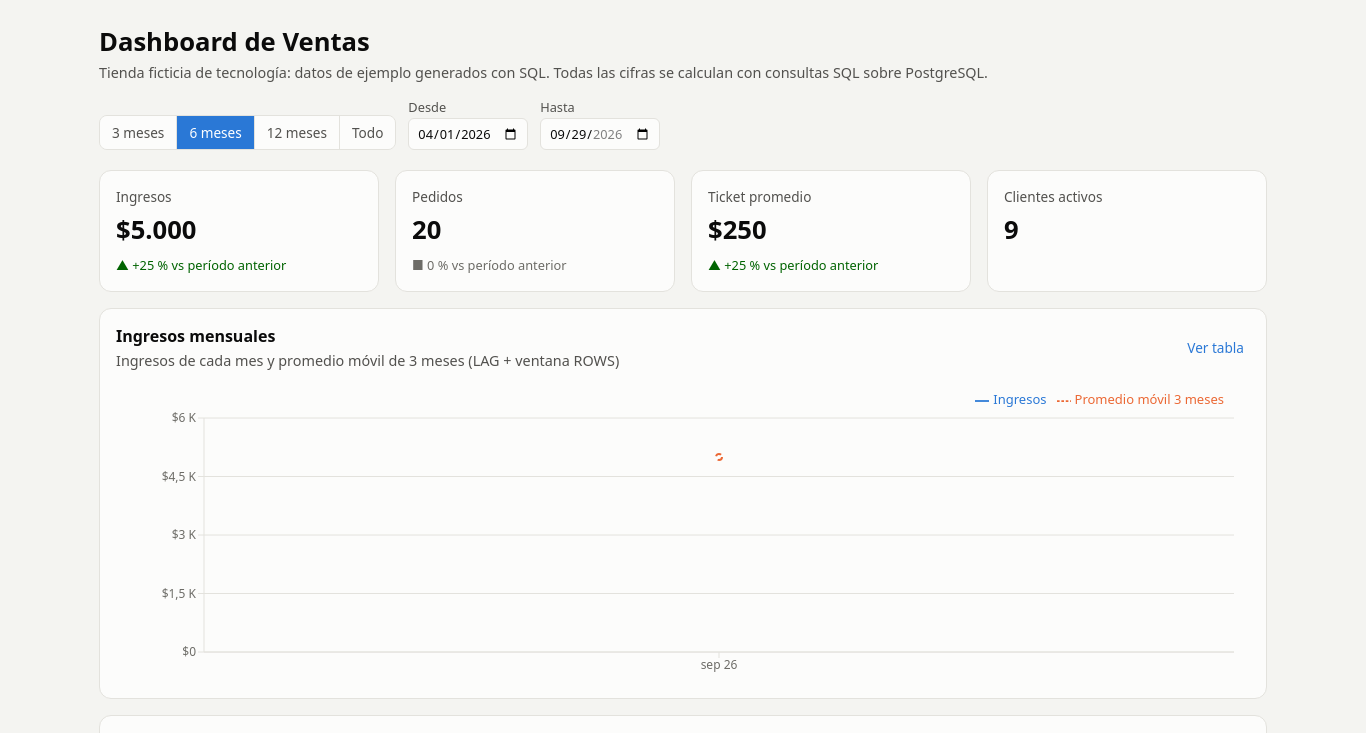
Test: App › alterna entre gráfico y tabla
Expected: the heading "Clientes activos" is shown, [1004, 187, 1102, 206]
Click the button "Ver tabla" in the row of "Ingresos mensuales" at (1216, 348), box [1181, 325, 1250, 370]
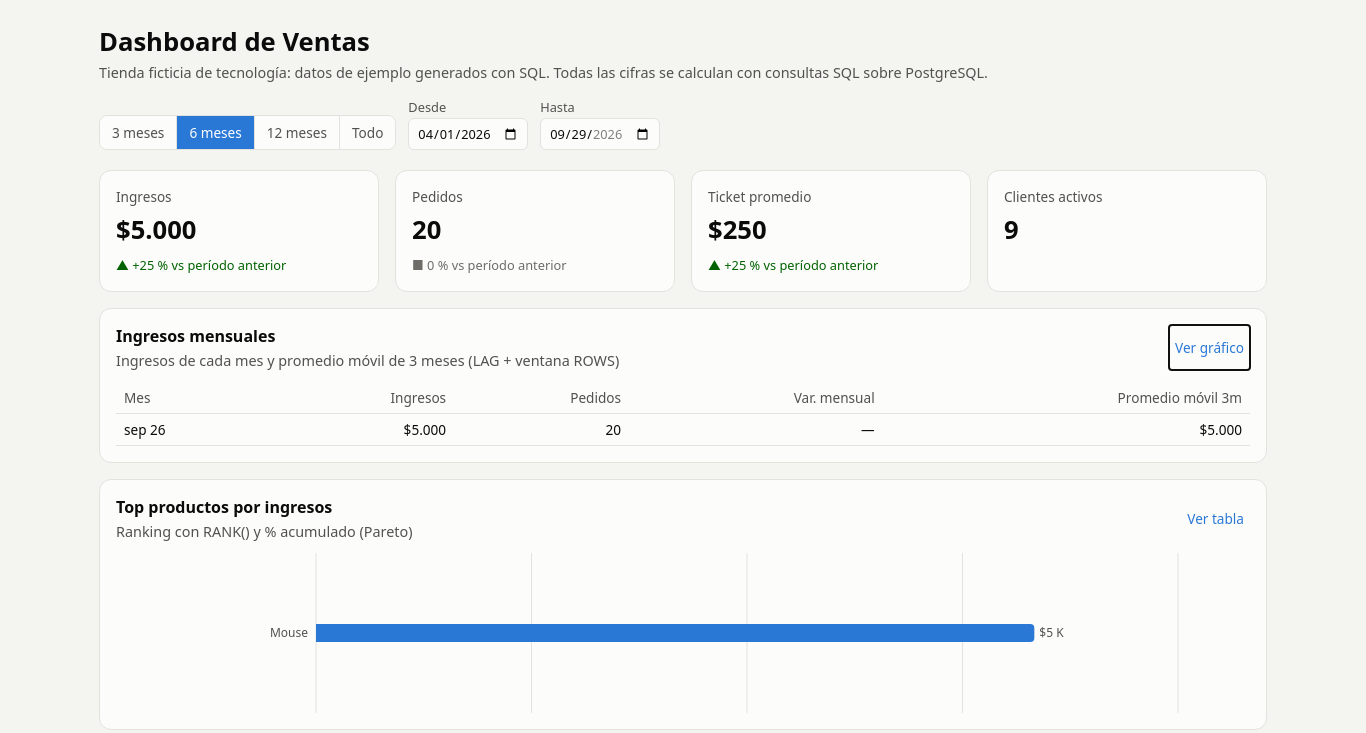
Now the column heading "Promedio móvil 3m" is shown, box [883, 382, 1250, 414]
